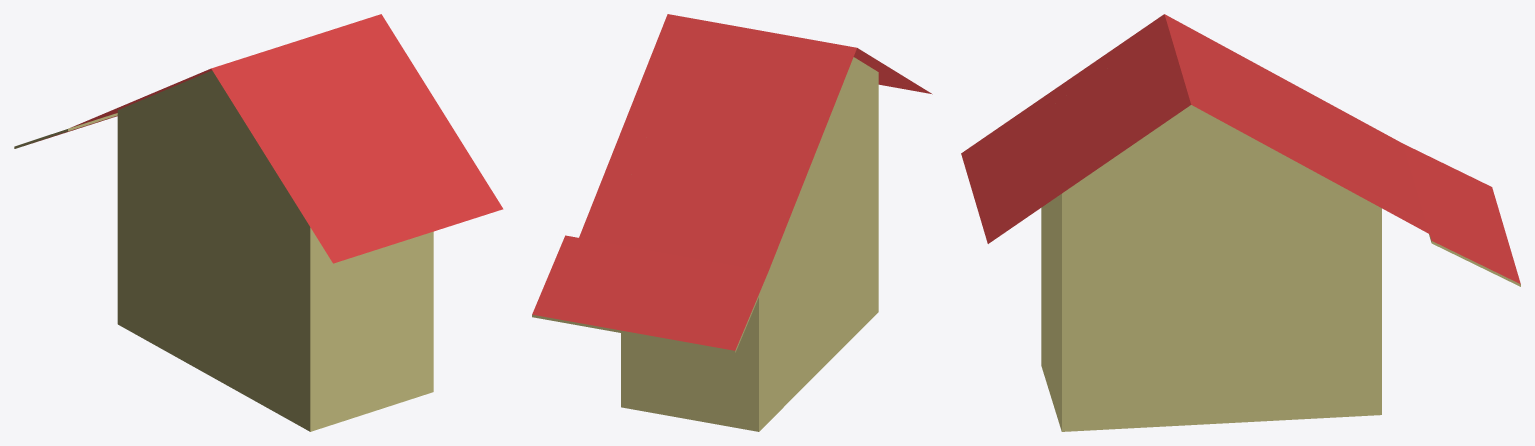
The picture shows the model from 3 angles, left to right: view 1: azimuth 30°, elevation 25°; view 2: azimuth 150°, elevation 25°; view 3: azimuth 270°, elevation 25°; orthographic projection. The views are drawn at different scales.
Size of the model in its own units: 9.53 by 18.97 by 12.44.
